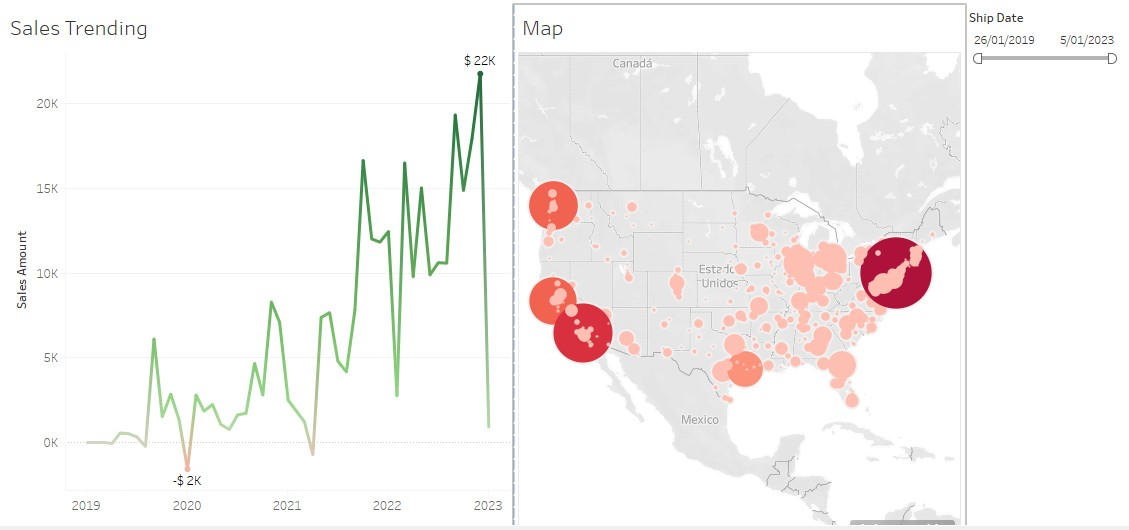

The page's visual inventory and layout, read from the dashboard file:
{"tool":"tableau","page":{"name":"Dashboard 1","canvas":[1000,1000],"units":"permille","ordinal":0},"visuals":[{"type":"worksheet","title":"Sales Trending","mark":"Automatic","rows":["Sales Amount"],"cols":["Ship Date"],"box":[7,14.3,449.5,971.4]},{"type":"worksheet","title":"Map","mark":"Automatic","box":[456.5,14.3,396,971.4]},{"type":"filter","title":"Sales Trending","param":"[federated.17m6hid11s1du31btn8o61joz6ja].[none:Ship Date:qk]","box":[852.5,14.3,140.5,123.2]}]}

Visuals, with their boxes on the dashboard's canvas, which has no fixed pixel size, in thousandths of its width and height (x1, y1, x2, y2). These are canvas units, not pixel positions in the 1129x530 screenshot, which may show the page scaled, cropped or inside an application window:
"Sales Trending" worksheet: Rect(7, 14, 456, 986)
"Map" worksheet: Rect(456, 14, 852, 986)
"Sales Trending" filter: Rect(852, 14, 993, 138)
